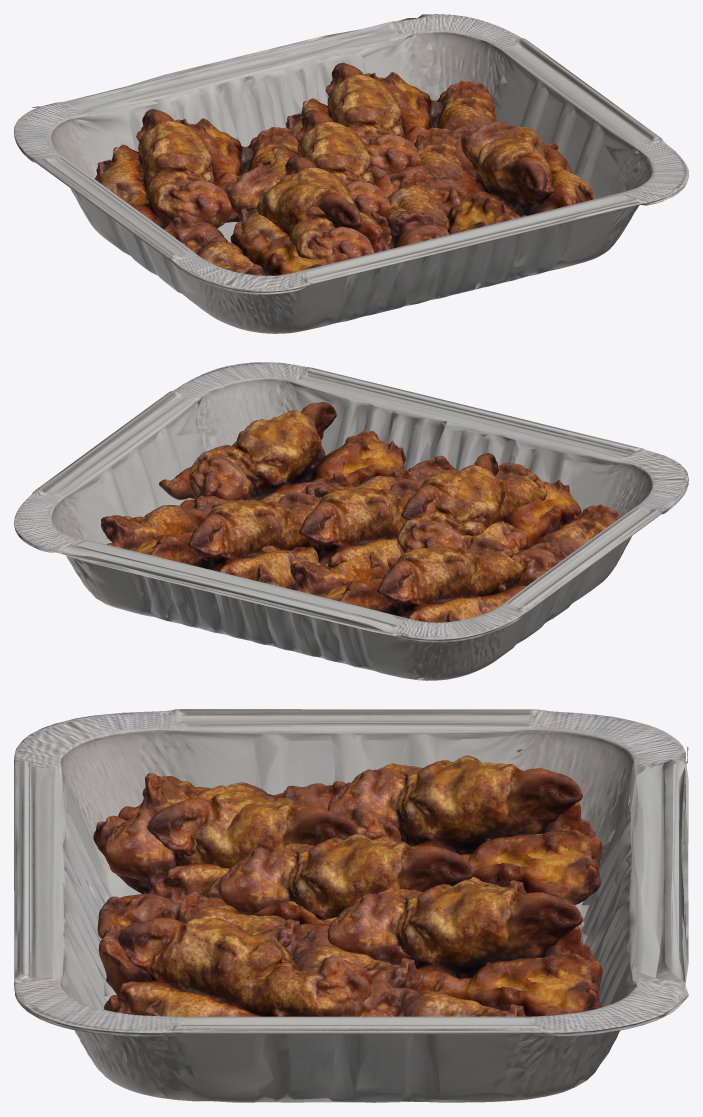
The model's file is jooje.chini.sokhari.glb.
The picture shows the model from 3 angles, top to bottom: view 1: azimuth 30°, elevation 25°; view 2: azimuth 150°, elevation 25°; view 3: azimuth 270°, elevation 25°; orthographic projection. The views are drawn at different scales.
Visible parts, largest first — view 1: node_0, 3DModel (×6); view 2: node_0, 3DModel (×6); view 3: node_0, 3DModel (×6).
Boxes of the visible parts, x1,y1,x2,y2 form: node_0: (14,14,688,333); 3DModel (×6): (95,62,593,275); node_0: (14,362,688,680); 3DModel (×6): (101,402,620,622); node_0: (14,709,688,1102); 3DModel (×6): (93,755,602,1016).
Bounding box in the file's own units: 0.3177 × 0.0607 × 0.2808.
2 materials, 2 textured.
